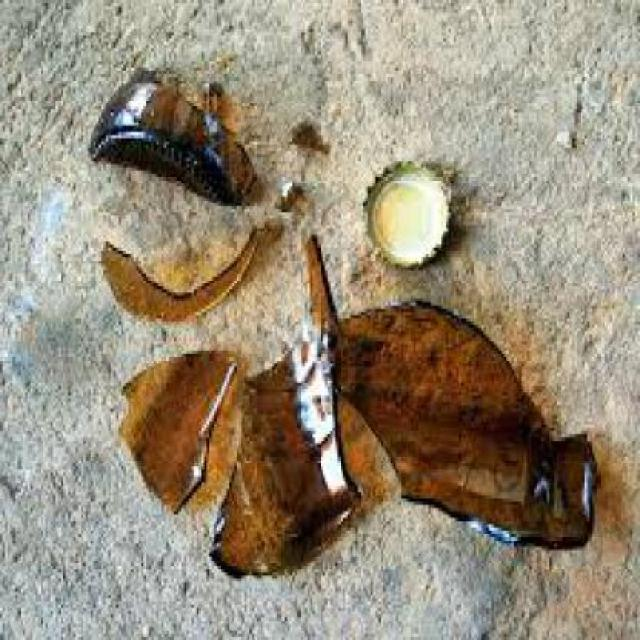GLASS: (310, 232, 602, 550), (214, 318, 366, 582), (91, 67, 260, 193), (123, 348, 242, 510), (104, 215, 282, 318), (295, 113, 330, 155), (277, 174, 305, 209), (205, 77, 226, 109)
METAL: (366, 158, 456, 267)
